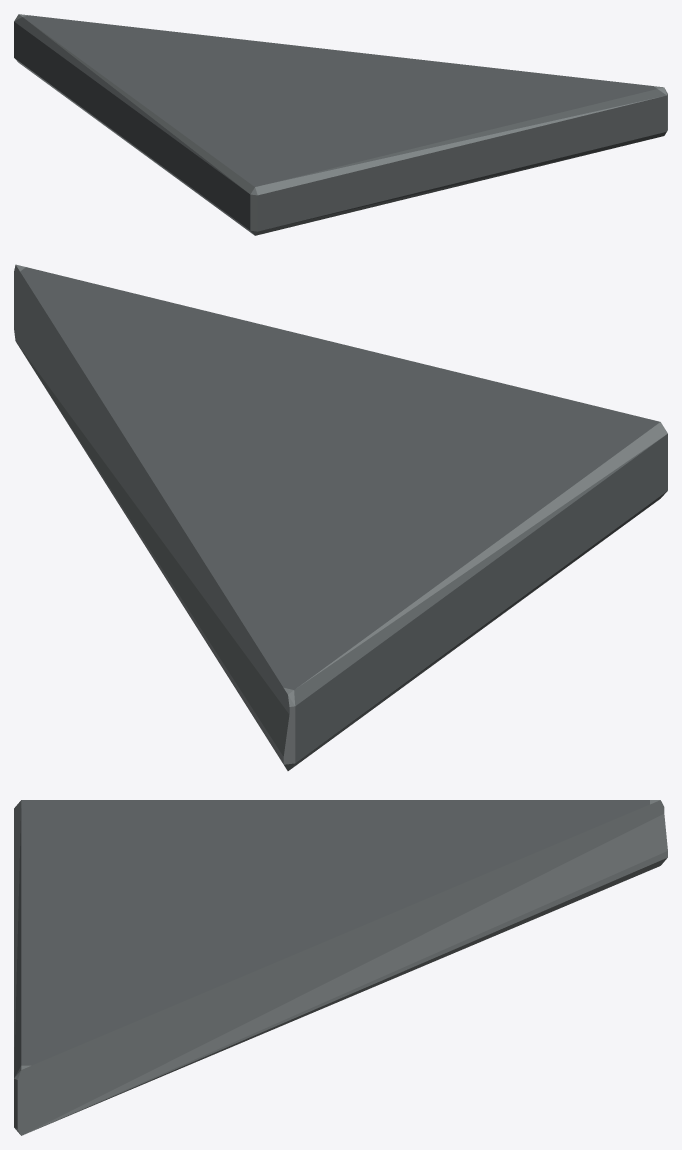
File: MCastle_HardStone_Floor_04.FBX
The picture shows the model from 3 angles, top to bottom: view 1: azimuth 30°, elevation 25°; view 2: azimuth 150°, elevation 25°; view 3: azimuth 270°, elevation 25°; orthographic projection. The views are drawn at different scales.
Parts seen in each view (by area): view 1: MCastle_HardStone_Floor_04_LOD0; view 2: MCastle_HardStone_Floor_04_LOD0; view 3: MCastle_HardStone_Floor_04_LOD0.
Part boxes in pixels (x1,y1,x2,y2): MCastle_HardStone_Floor_04_LOD0: (14, 14, 667, 235); MCastle_HardStone_Floor_04_LOD0: (14, 264, 667, 770); MCastle_HardStone_Floor_04_LOD0: (14, 800, 667, 1135).
Size of what is drawn, in the model's own units: 176 by 19.7 by 177.
